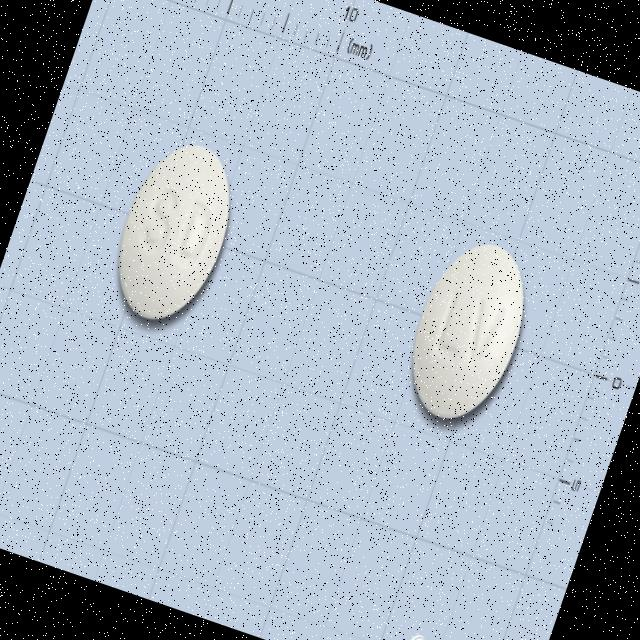Levarox: (392, 228, 546, 434), (97, 130, 250, 336)
